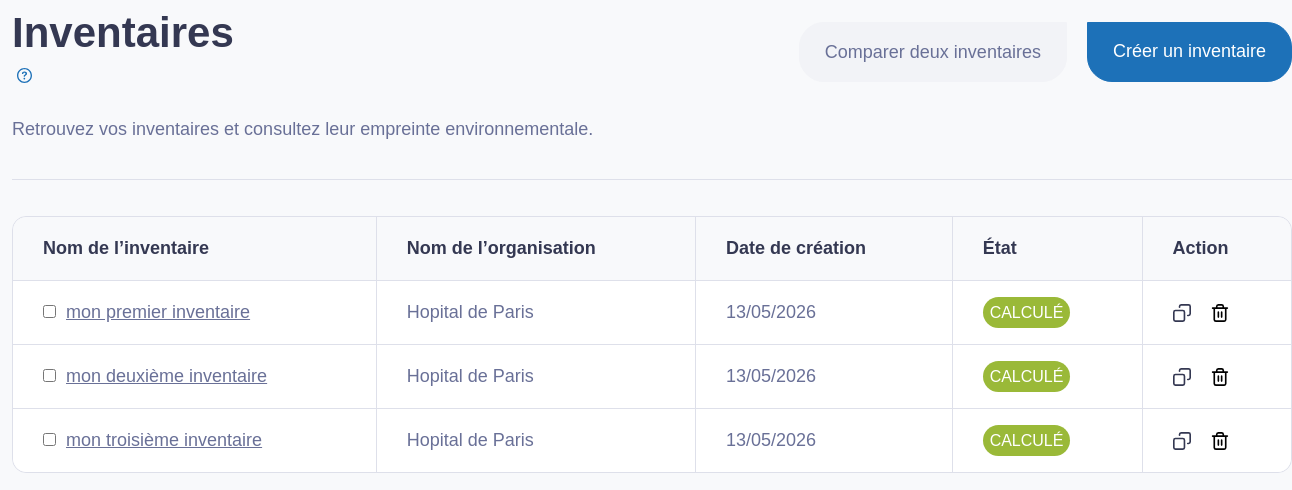
page inventaires › en tant qu’utilisateur › et ayant des inventaires › quand je sélectionne deux inventaires calculés pour comparaison alors le bouton pour comparer deux inventaires est activé
What coordinates should you click on to do the following:
click the checkbox named "mon premier inventaire" next to "mon premier inventaire"
I would click on:
 (50, 312)
Its box is top-left (43, 305), bottom-right (56, 318).
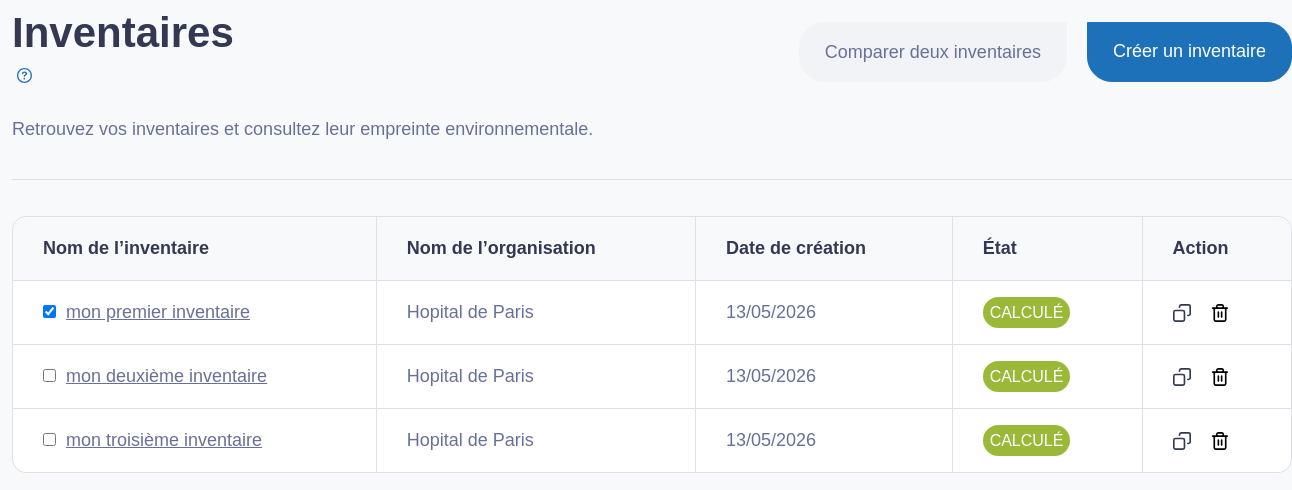
What coordinates should you click on to do the following:
click the checkbox named "mon troisième inventaire" next to "mon troisième inventaire"
I would click on:
 (50, 440)
Its box is top-left (43, 433), bottom-right (56, 446).
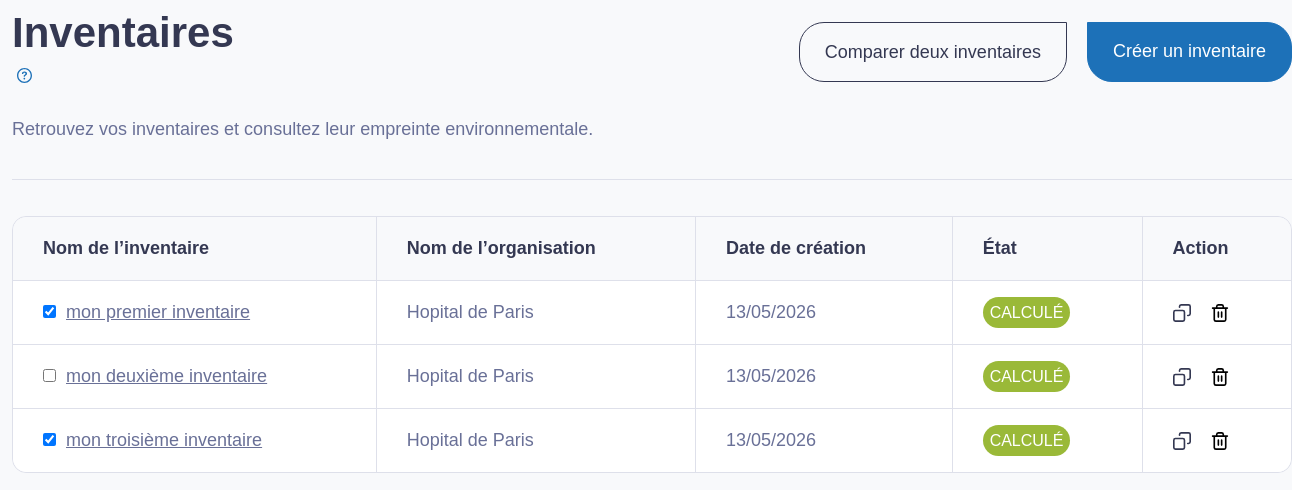
Expected: the button "Comparer deux inventaires" is enabled, top-left (799, 22), bottom-right (1067, 82)
